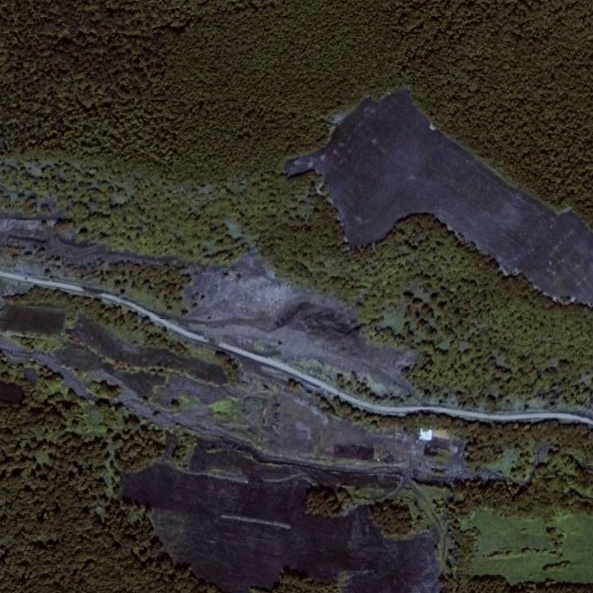slope: (173, 254, 426, 403)
